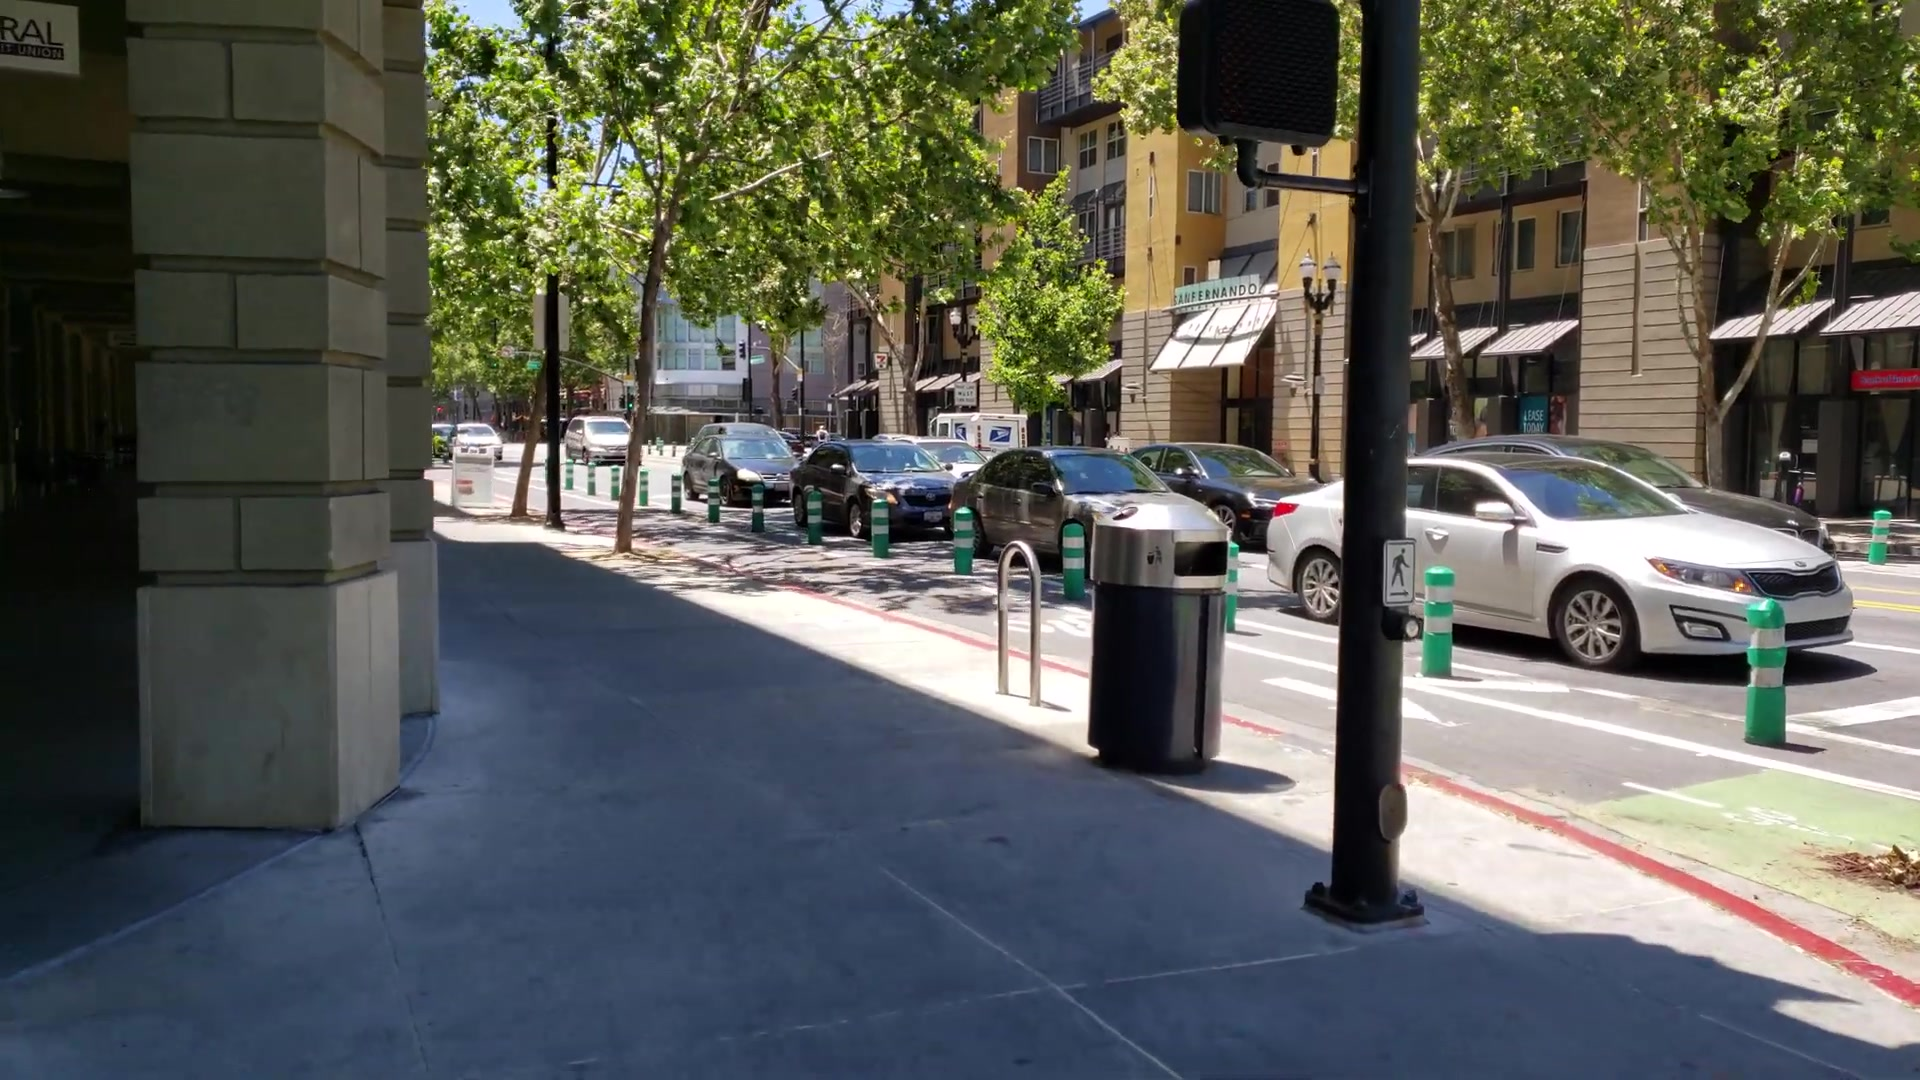vehicle: (1267, 455, 1853, 651), (787, 444, 953, 535), (680, 434, 791, 506)
